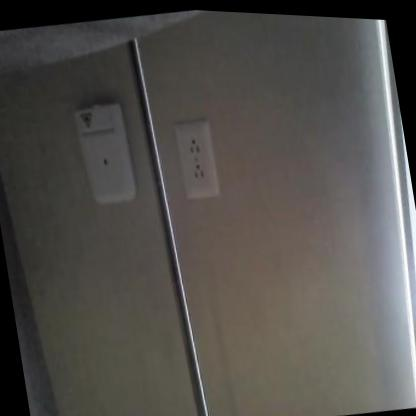OUTLET: (173, 116, 221, 201)
